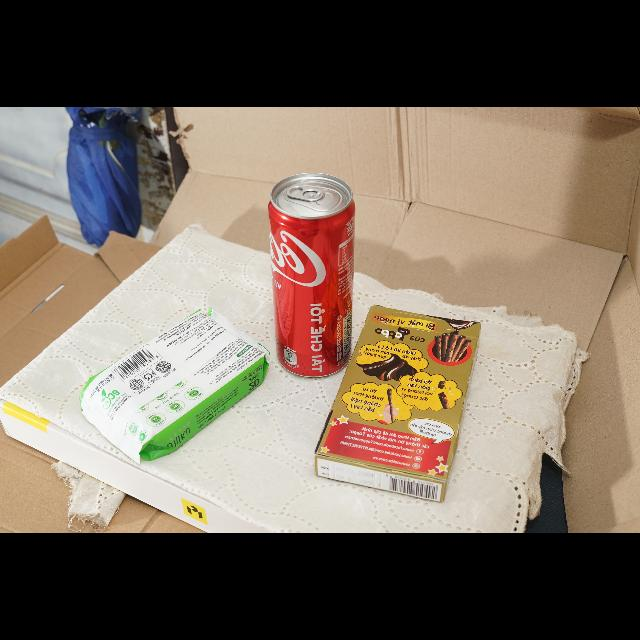banh_toppo_socola: (315, 306, 480, 502)
coca_cola: (268, 174, 355, 378)
khan_giay: (80, 309, 269, 461)
